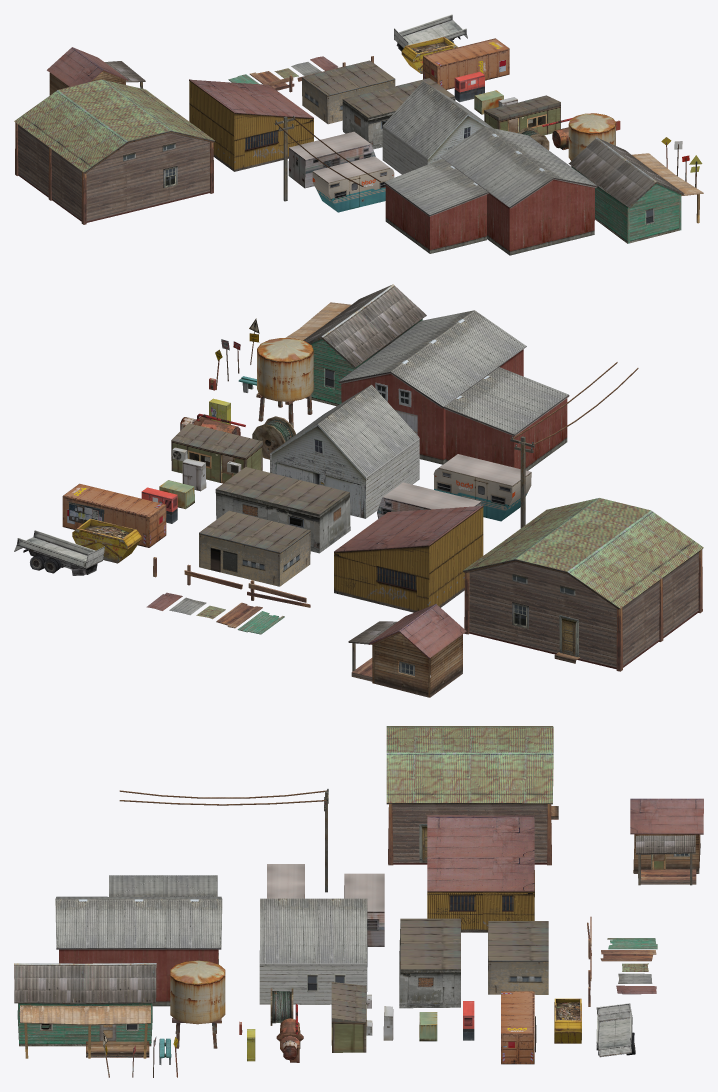
Rendered from 【5】lowpoly_buildings.glb.
3 renders of one model, top to bottom at view 1: azimuth 30°, elevation 25°; view 2: azimuth 150°, elevation 25°; view 3: azimuth 270°, elevation 25°, orthographic. The views are drawn at different scales.
Parts seen in each view (by area): view 1: house02_elements_0, barn01_elements_0, barrack04_elements_0, barn01_add_elements_0, house01_elements_0, barn03_elements_0, barrack03_elements_0, trailer01_elements_0, container02_elements_0, barrack02_elements_0, trailer02_elements_0, barrack01_elements_0 (+10 smaller); view 2: house02_elements_0, barn01_elements_0, barrack04_elements_0, barn03_elements_0, barn01_add_elements_0, house01_elements_0, barrack02_elements_0, house03_elements_0, barrack03_elements_0, trailer01_elements_0, watertank01_elements_0, container02_elements_0 (+11 smaller); view 3: house02_elements_0, barn01_elements_0, barrack04_elements_0, barn03_elements_0, house01_elements_0, barrack02_elements_0, barrack03_elements_0, house03_elements_0, watertank01_elements_0, house01_roof_elements_0, container02_elements_0, barrack01_elements_0 (+14 smaller).
Boxes of the visible parts, x1=… form: house02_elements_0: x1=14, y1=79, x2=214, y2=224; barn01_elements_0: x1=440, y1=126, x2=597, y2=255; barrack04_elements_0: x1=189, y1=79, x2=313, y2=171; barn01_add_elements_0: x1=384, y1=159, x2=488, y2=253; house01_elements_0: x1=568, y1=137, x2=684, y2=243; barn03_elements_0: x1=382, y1=81, x2=492, y2=174; barrack03_elements_0: x1=302, y1=60, x2=395, y2=124; trailer01_elements_0: x1=312, y1=156, x2=394, y2=212; container02_elements_0: x1=423, y1=38, x2=509, y2=89; barrack02_elements_0: x1=342, y1=78, x2=455, y2=149; trailer02_elements_0: x1=288, y1=131, x2=375, y2=188; barrack01_elements_0: x1=484, y1=95, x2=560, y2=135; house02_elements_0: x1=463, y1=498, x2=703, y2=671; barn01_elements_0: x1=338, y1=310, x2=526, y2=464; barrack04_elements_0: x1=334, y1=505, x2=483, y2=612; barn03_elements_0: x1=270, y1=384, x2=419, y2=518; barn01_add_elements_0: x1=444, y1=367, x2=569, y2=470; house01_elements_0: x1=303, y1=284, x2=426, y2=406; barrack02_elements_0: x1=215, y1=467, x2=350, y2=553; house03_elements_0: x1=368, y1=604, x2=466, y2=697; barrack03_elements_0: x1=199, y1=510, x2=310, y2=586; trailer01_elements_0: x1=433, y1=454, x2=531, y2=521; watertank01_elements_0: x1=256, y1=338, x2=314, y2=427; container02_elements_0: x1=62, y1=483, x2=166, y2=547; house02_elements_0: x1=386, y1=726, x2=558, y2=865; barn01_elements_0: x1=55, y1=896, x2=222, y2=1006; barrack04_elements_0: x1=426, y1=815, x2=534, y2=932; barn03_elements_0: x1=259, y1=898, x2=367, y2=1004; house01_elements_0: x1=14, y1=963, x2=156, y2=1046; barrack02_elements_0: x1=399, y1=918, x2=460, y2=1008; barrack03_elements_0: x1=488, y1=921, x2=548, y2=994; house03_elements_0: x1=630, y1=798, x2=703, y2=873; watertank01_elements_0: x1=170, y1=960, x2=225, y2=1048; house01_roof_elements_0: x1=20, y1=1005, x2=150, y2=1058; container02_elements_0: x1=501, y1=991, x2=534, y2=1064; barrack01_elements_0: x1=331, y1=982, x2=366, y2=1052.
Size of the model in its own units: 42.01 by 6.88 by 42.07.
Materials: 1 (1 with a texture image).
